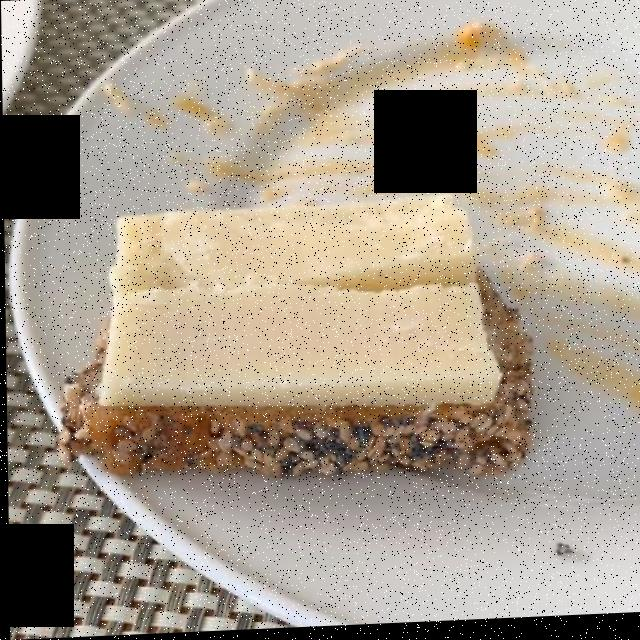bread-grain: (64, 201, 524, 478)
gruyere: (106, 203, 514, 400)
